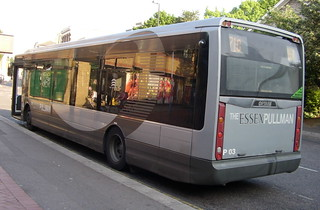bus: (8, 16, 305, 186)
